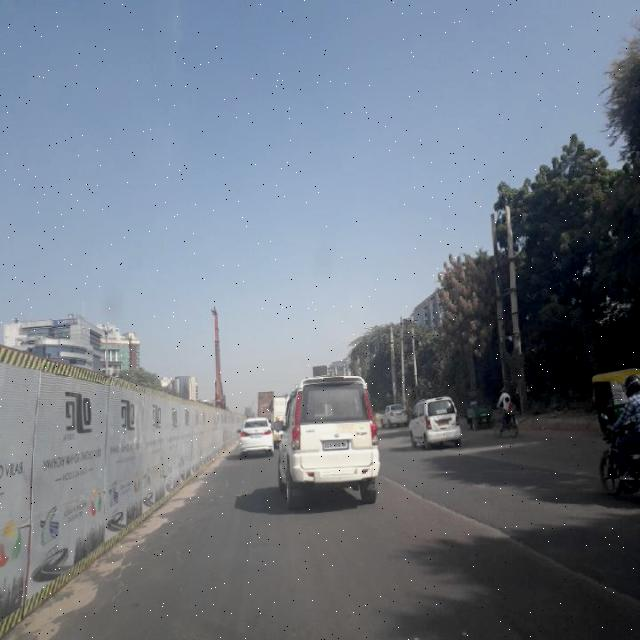D00: (399, 484, 637, 602)
